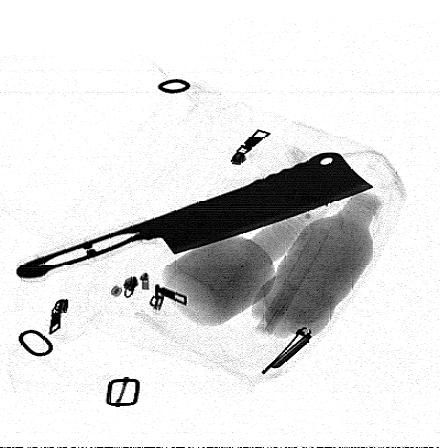Knife: (15, 151, 376, 284)
